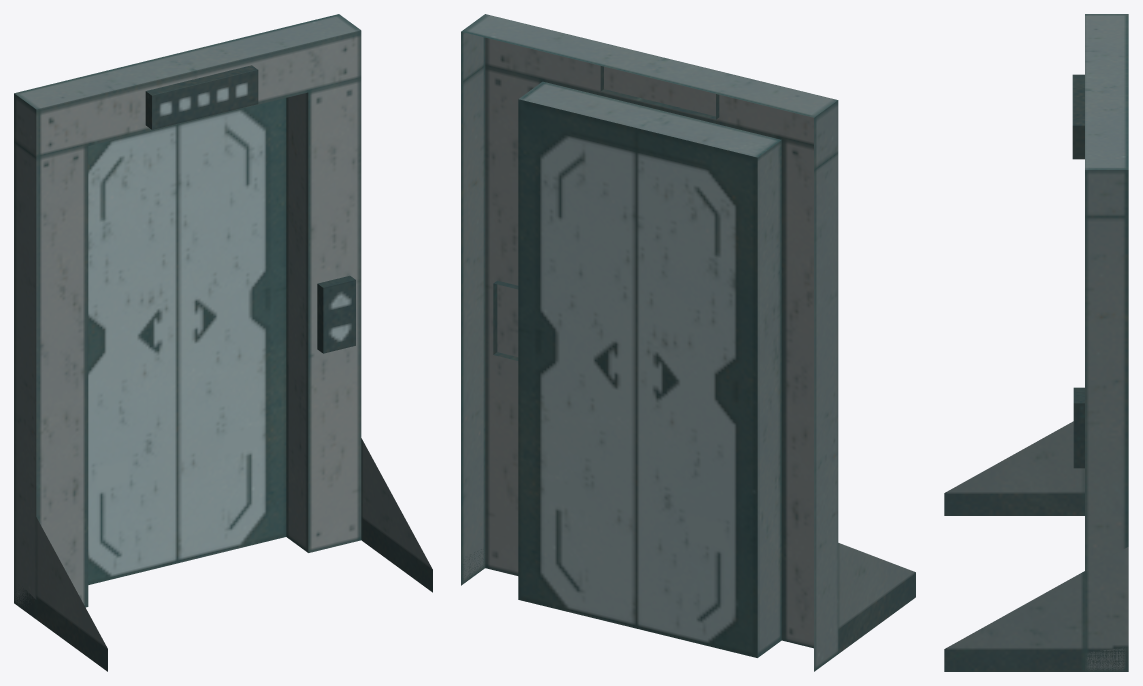
The model's file is SM_Ship_Elevator.fbx.
The picture shows the model from 3 angles, left to right: view 1: azimuth 30°, elevation 25°; view 2: azimuth 150°, elevation 25°; view 3: azimuth 270°, elevation 25°; orthographic projection. The views are drawn at different scales.
Parts seen in each view (by area): view 1: SM_Ship_Elevator; view 2: SM_Ship_Elevator; view 3: SM_Ship_Elevator.
Boxes of the visible parts, box(x1,y1,x2,y2) form: SM_Ship_Elevator: box(14, 14, 432, 671); SM_Ship_Elevator: box(461, 14, 915, 671); SM_Ship_Elevator: box(944, 14, 1128, 671).
Bounding box in the file's own units: 50.01 × 75 × 25.
